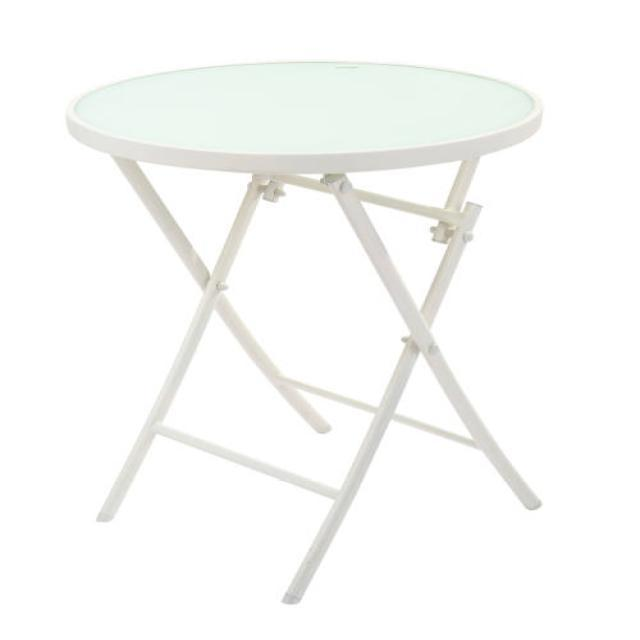table: (63, 58, 546, 604)
